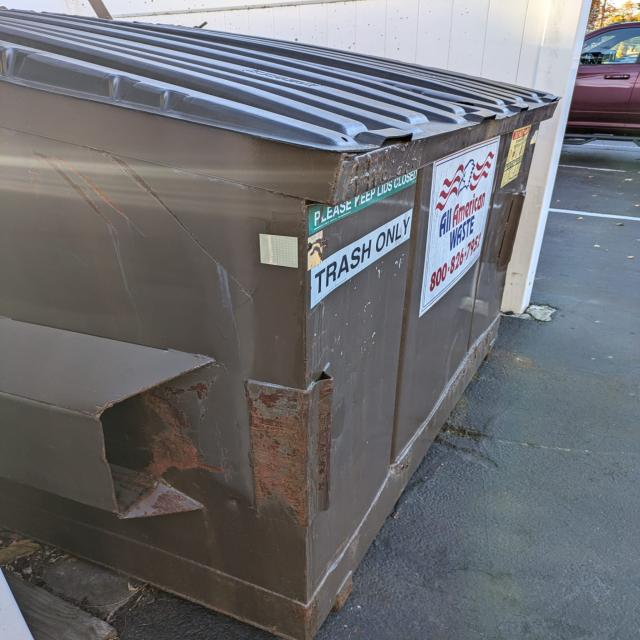Filiform Corrosion: (102, 383, 230, 519), (247, 376, 334, 528)
